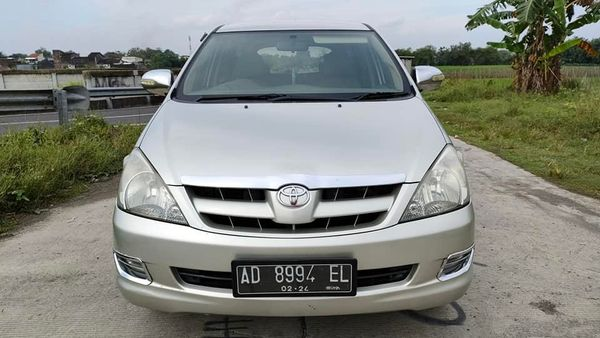plate: (233, 260, 357, 295)
